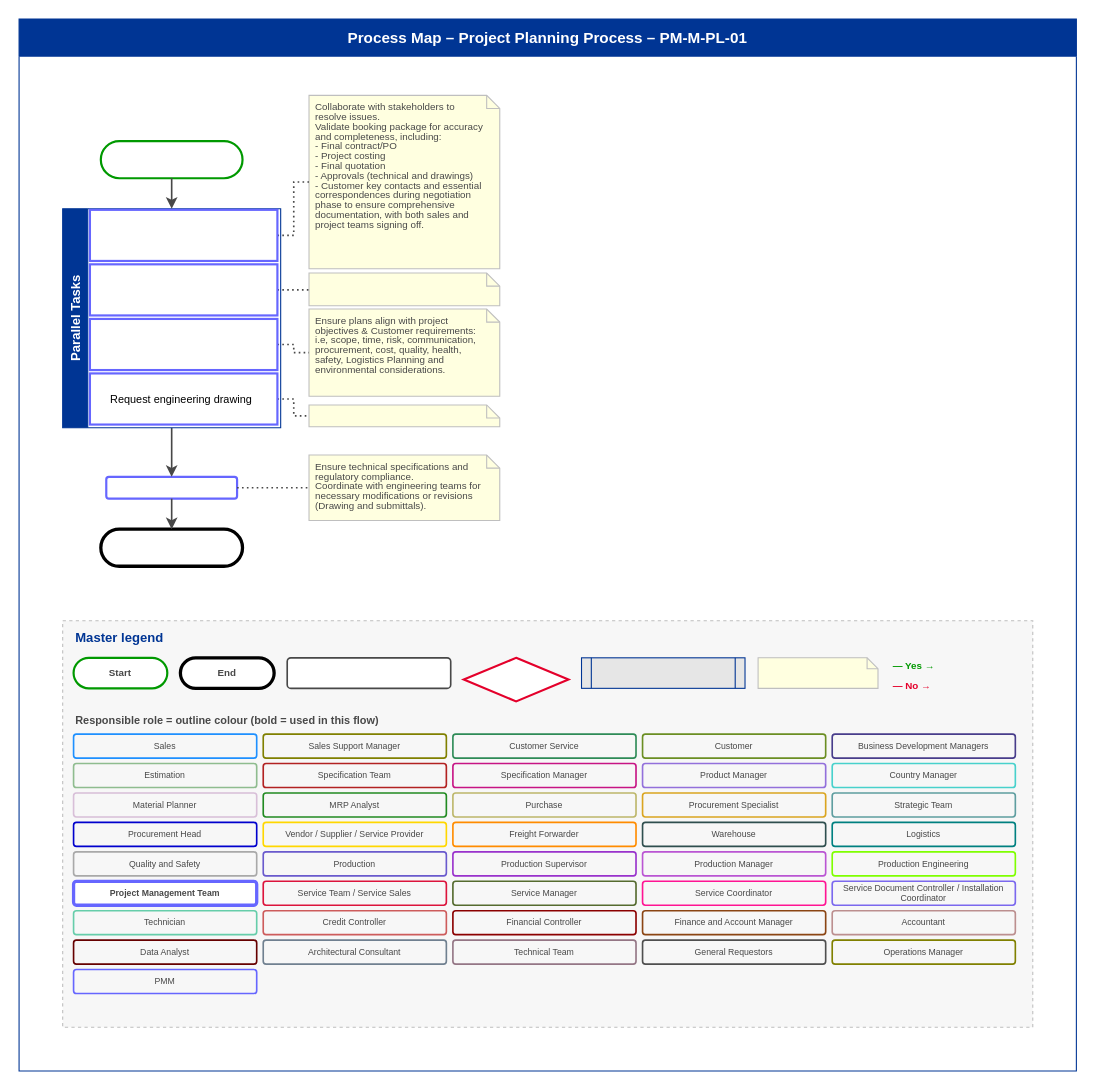
Image size: 1095x1090. Some labels were removed from this diagram. The shapes that lost their labels are listed below. From the top down, each one's centre as x and y in pixels, then its label:
At point 171,159: "Planning".
At point 183,234: "Booking Package Validation".
At point 183,289: "Internal Kick-Off Meeting".
At point 404,289: "Include technical teams, Installation Subcontractors, Sales team.".
At point 183,344: "Develop project management plan".
At point 404,415: "If Applicable!".
At point 171,487: "Engineering Approval".
At point 171,547: "Execution".
At point 368,673: "Activity (outline = role)".
At point 515,679: "Decision".
At point 662,672: "Linked process (Ref ID)".
At point 817,672: "Note / checklist".
